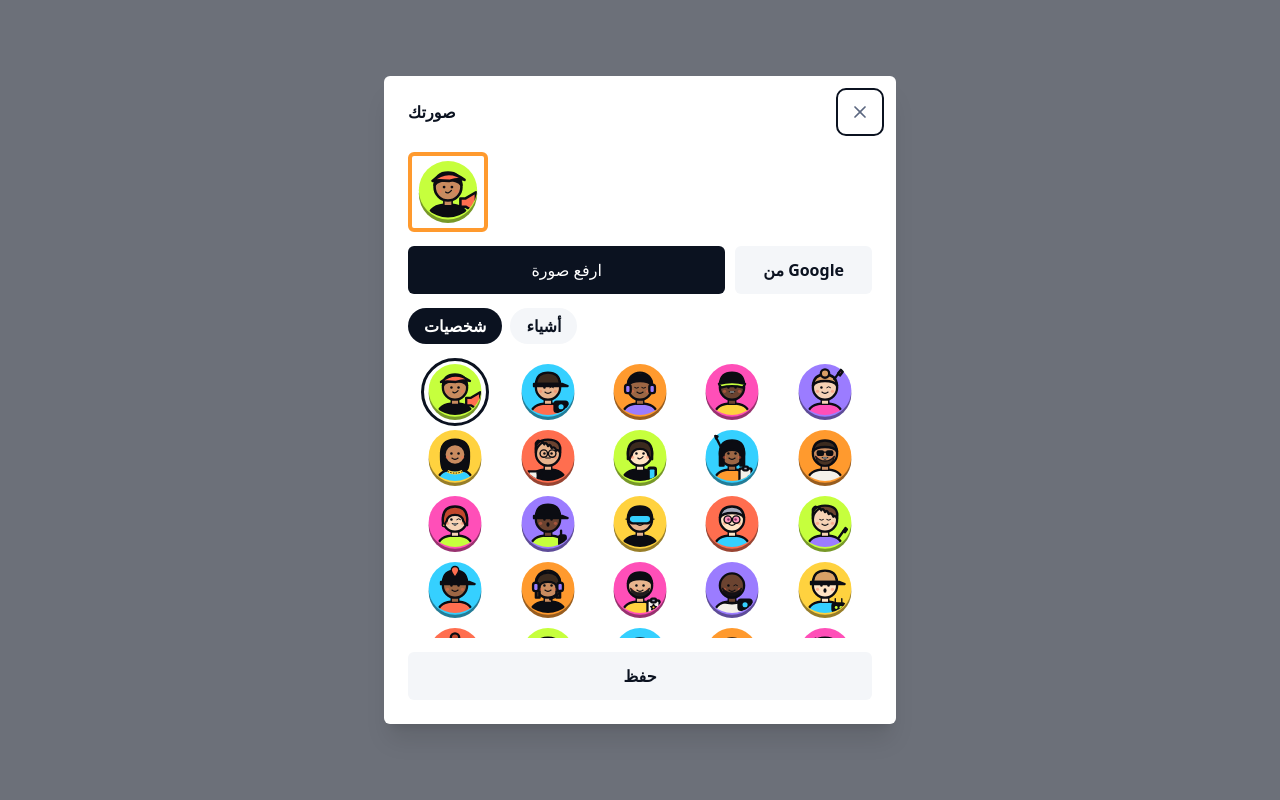
it: staging — nothing changes until «حفظ» (AVA-04) › a failed save keeps the sheet and the stage, with «تعذّر الحفظ»
Click the button named "الممثل": x=825, y=458 [797, 430, 853, 486]
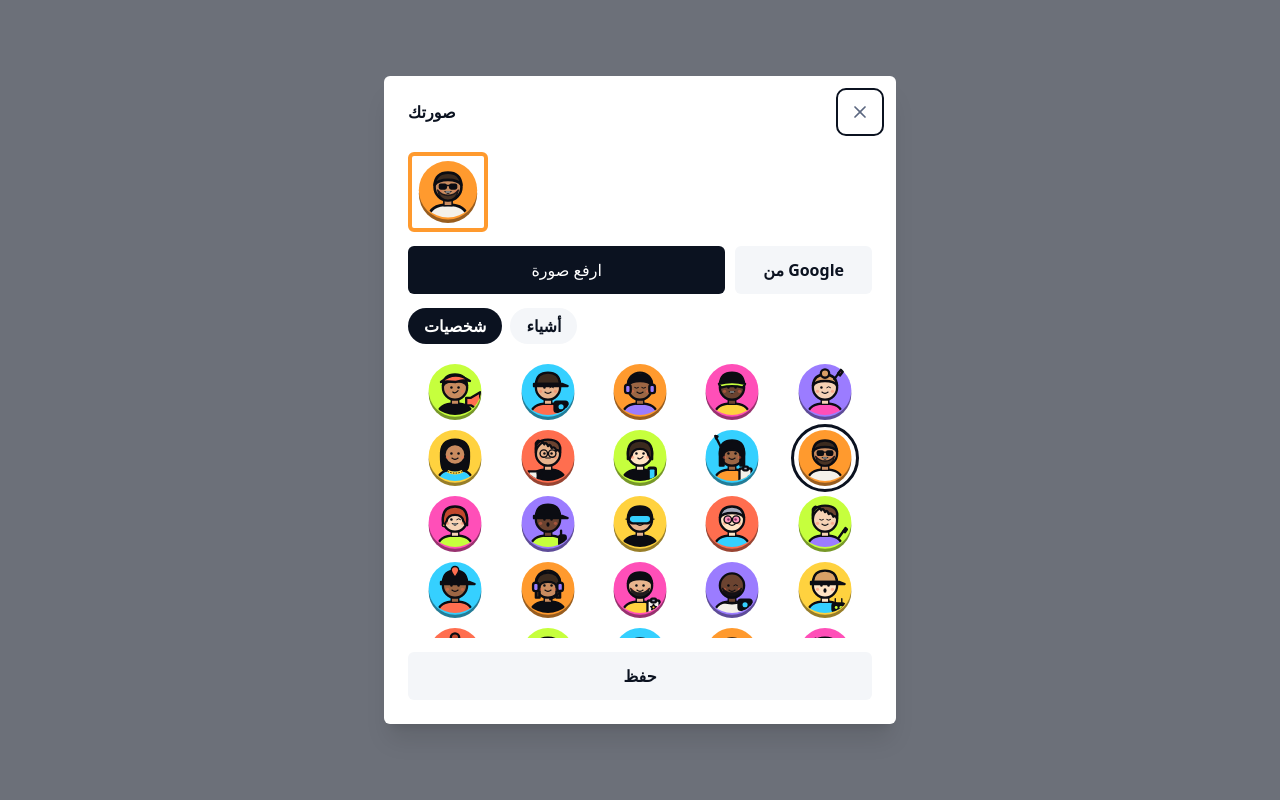
Click the button "حفظ": x=640, y=676 [408, 652, 872, 700]
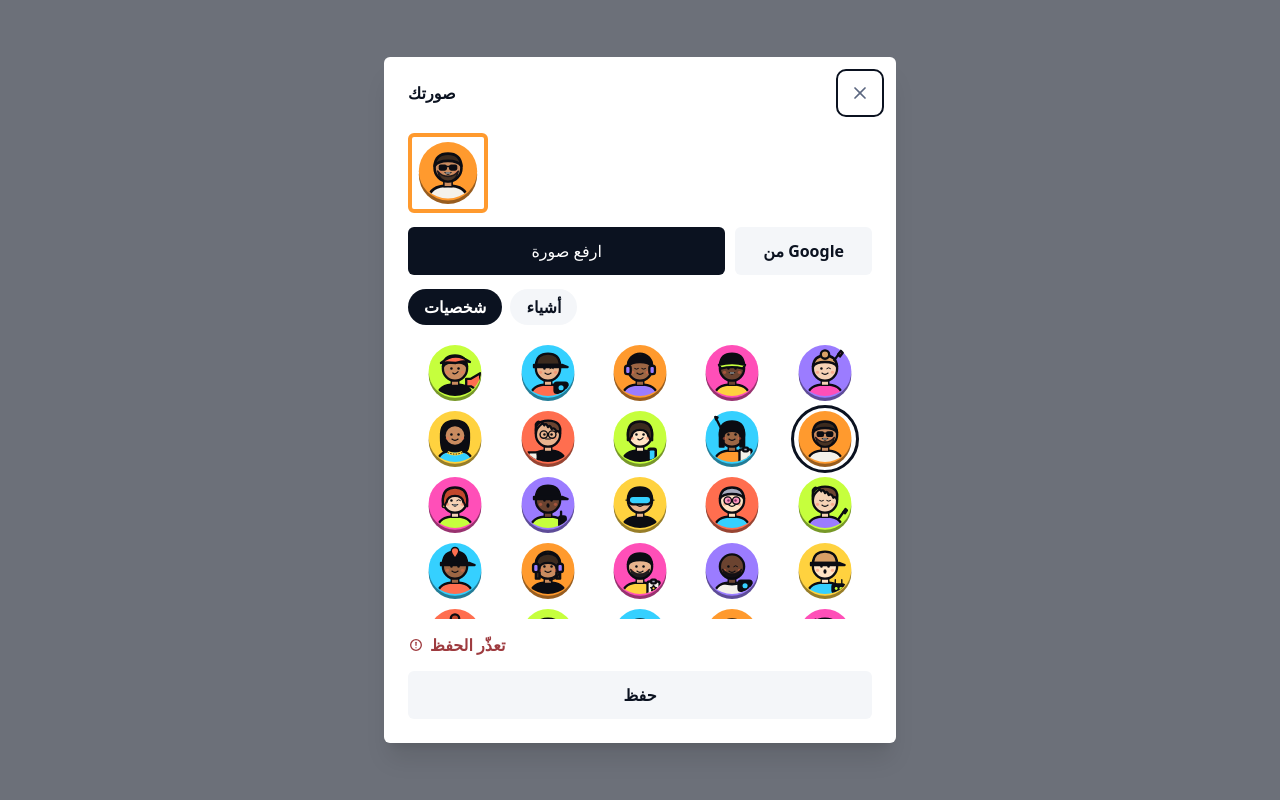
Expected: the message reads "تعذّر الحفظ", [430, 634, 505, 656]
